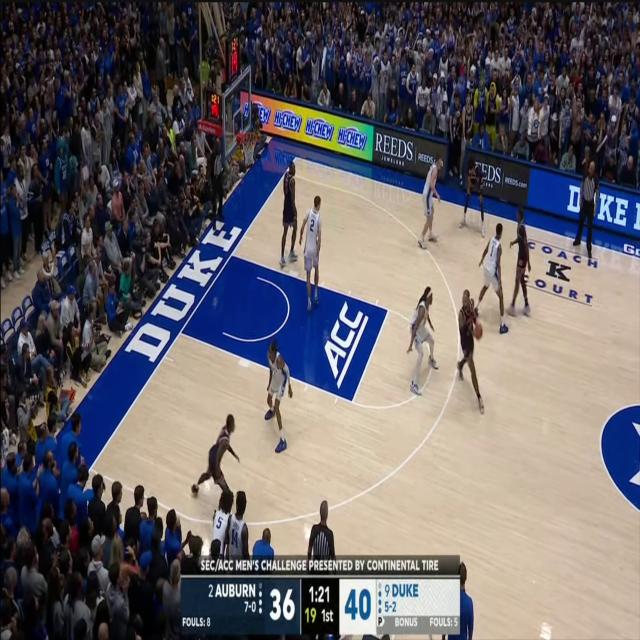basketball: (470, 312, 488, 352)
